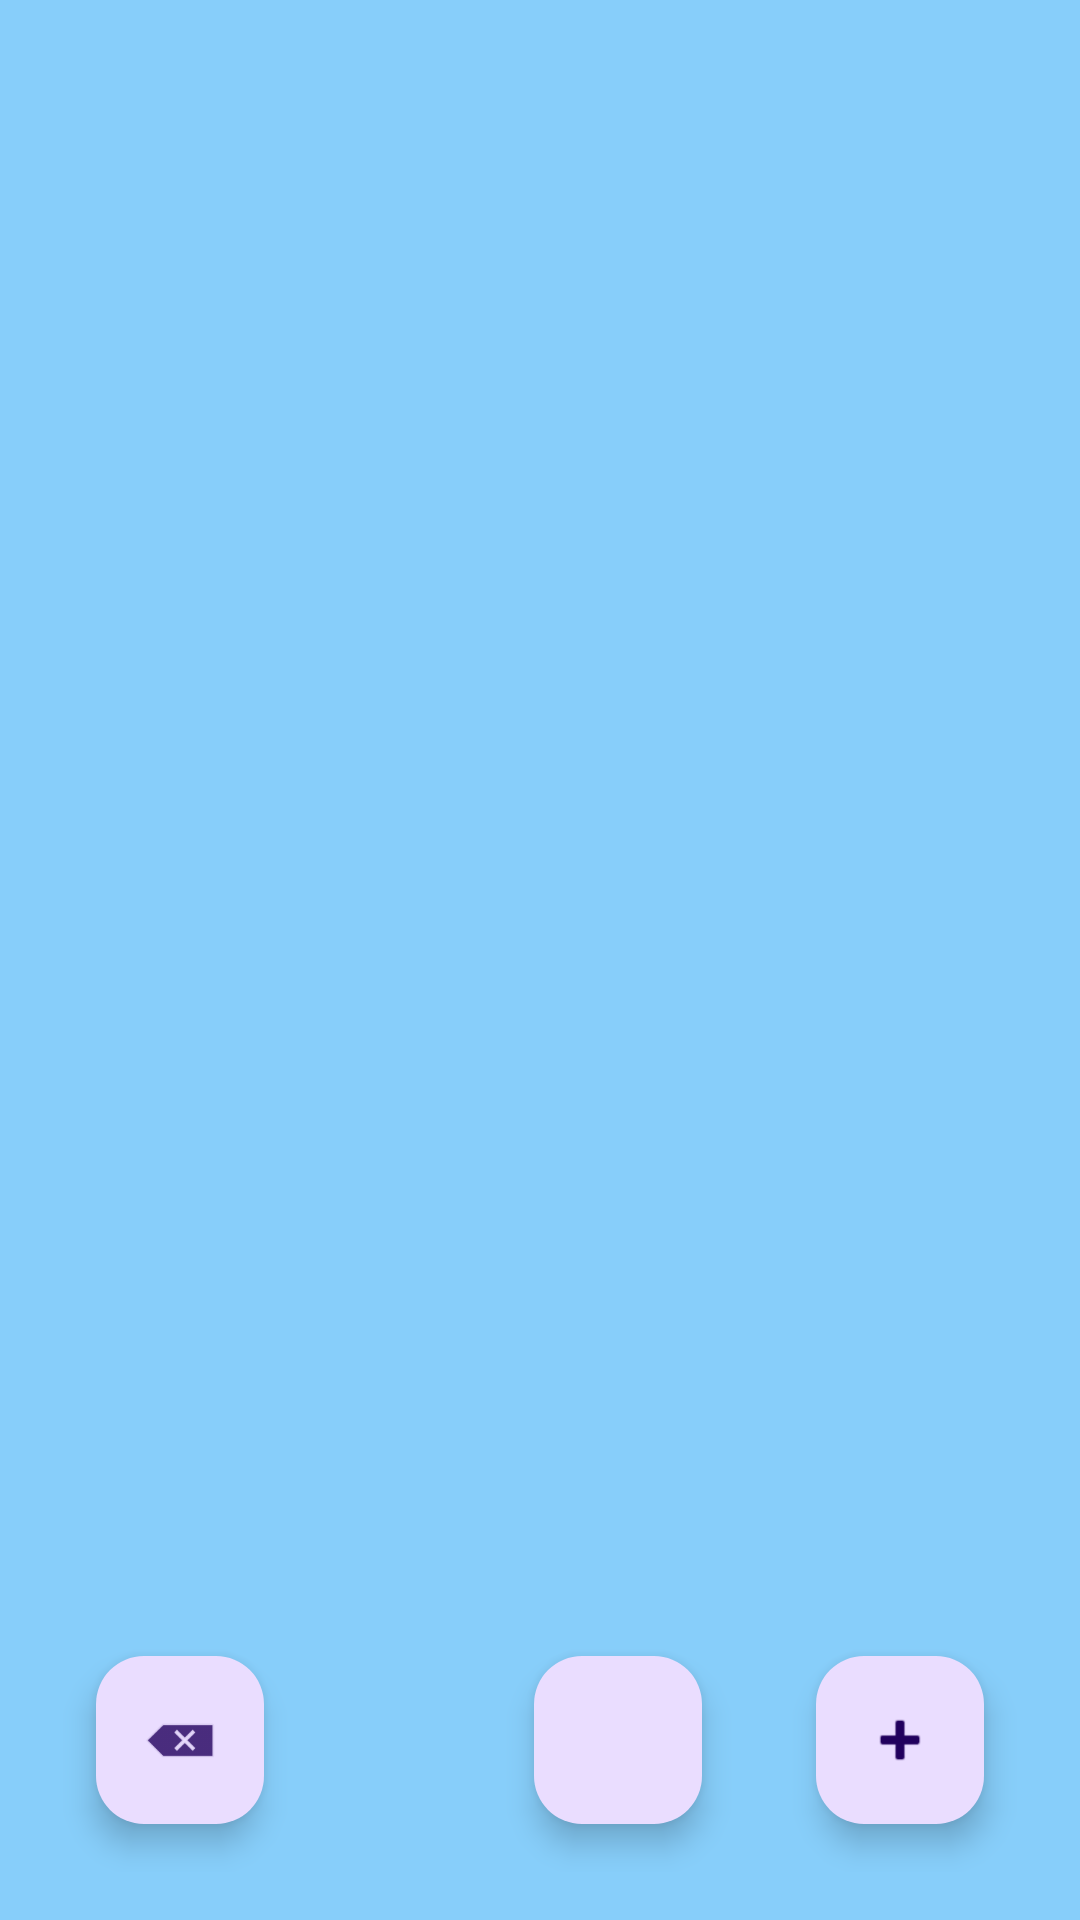

Icons on this 1080w x 1920h Android screen, each with its box as [left=x1, top=y1, right=x2, bottom=y2]:
Buton pentru adăugare: [left=816, top=1656, right=984, bottom=1824]
Buton pentru ștergere: [left=96, top=1656, right=264, bottom=1824]
